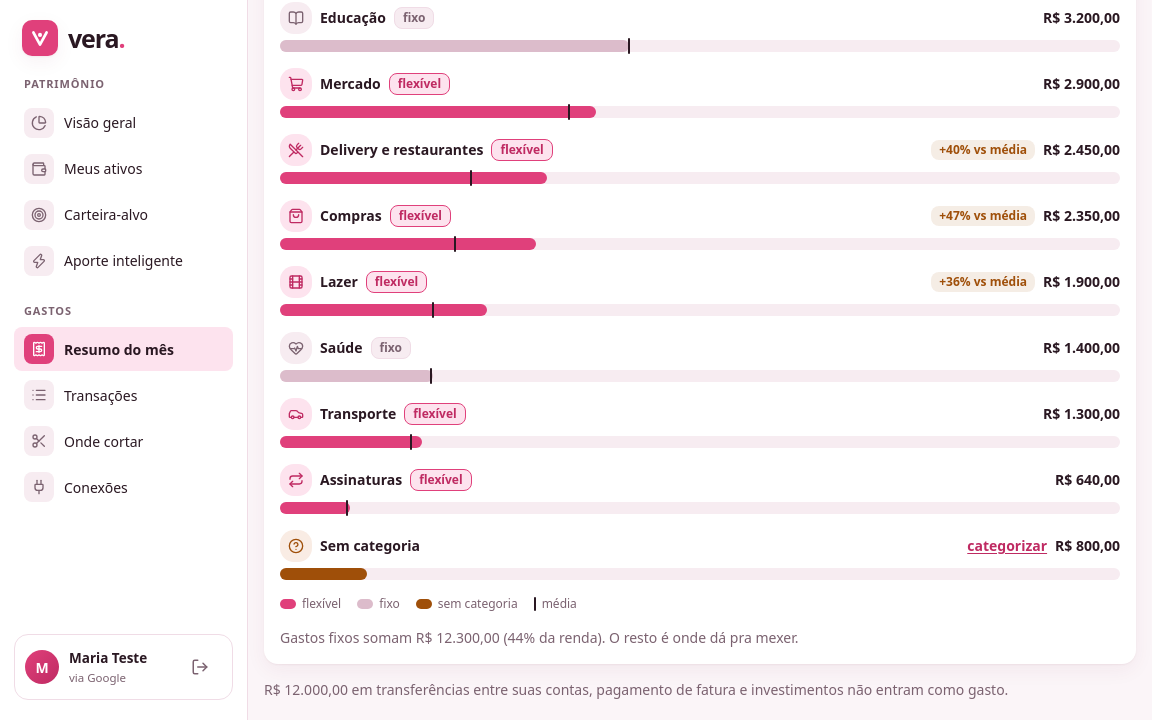
Test: resumo do mês: interações › o toque na linha sem categoria abre o tooltip com o atalho
(page scrolled)
Step 1. Click the button named "Sem categoria:" → click(324, 574), box [280, 568, 1120, 580]
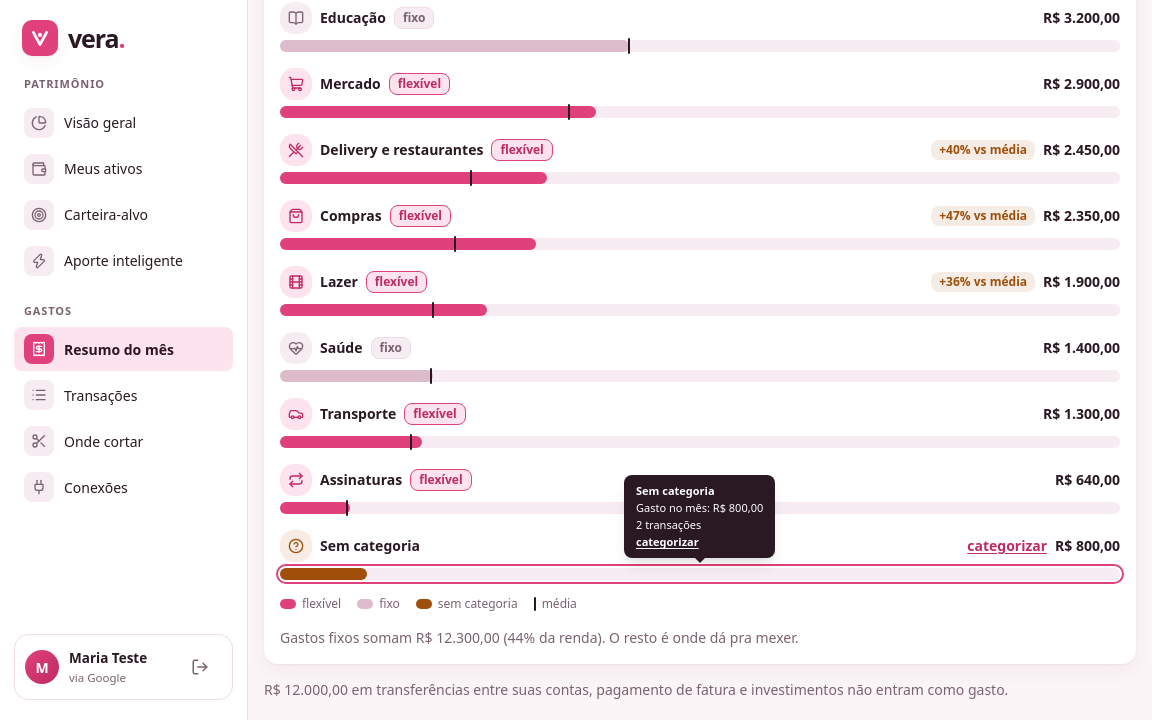
Check: the text "2 transações" is shown, box [636, 517, 701, 532]
